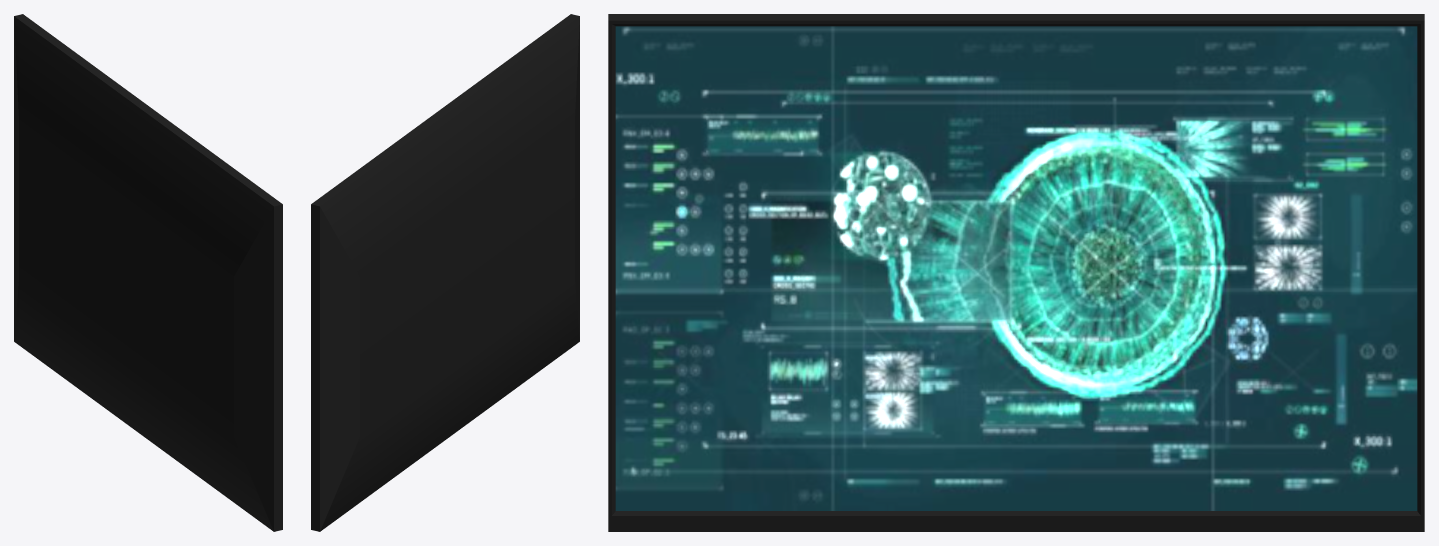
The model's file is DisplayScreenB.fbx.
3 views of the same model, side by side, from view 1: azimuth 30°, elevation 25°; view 2: azimuth 150°, elevation 25°; view 3: azimuth 270°, elevation 25° (orthographic). The views are drawn at different scales.
Visible parts, largest first — view 1: DisplayScreenB; view 2: DisplayScreenB; view 3: DisplayScreenB.
Boxes of the visible parts, box(x1,y1,x2,y2) form: DisplayScreenB: box(14, 14, 282, 531); DisplayScreenB: box(311, 14, 579, 531); DisplayScreenB: box(608, 14, 1424, 531).
Bounding box in the file's own units: 9.64 × 113 × 164.
